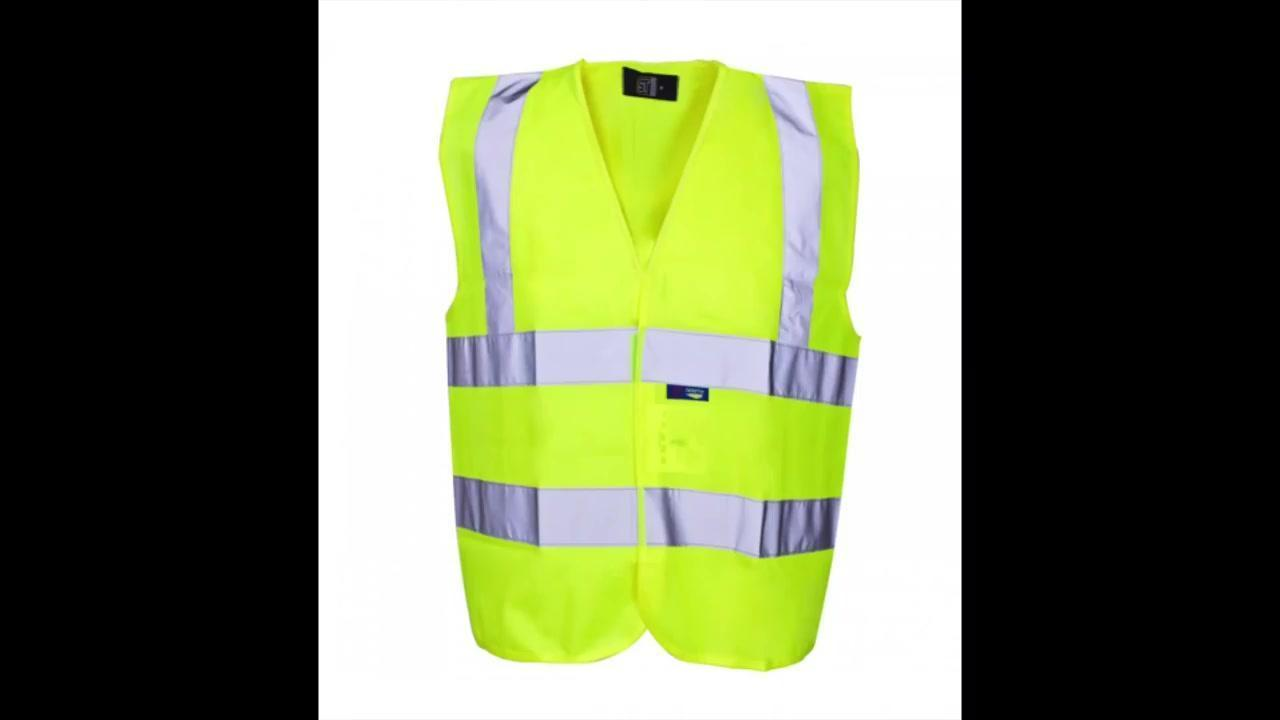vest: (441, 62, 864, 670)
